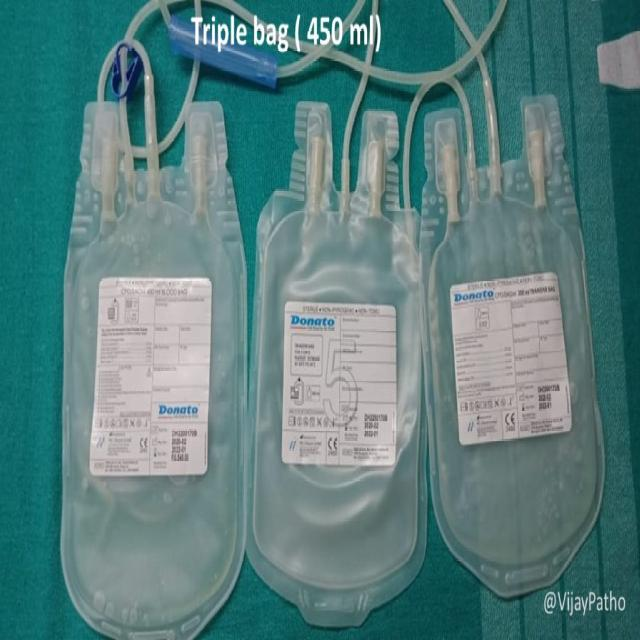B3: (62, 82, 250, 630), (255, 80, 426, 626), (433, 78, 603, 591)
